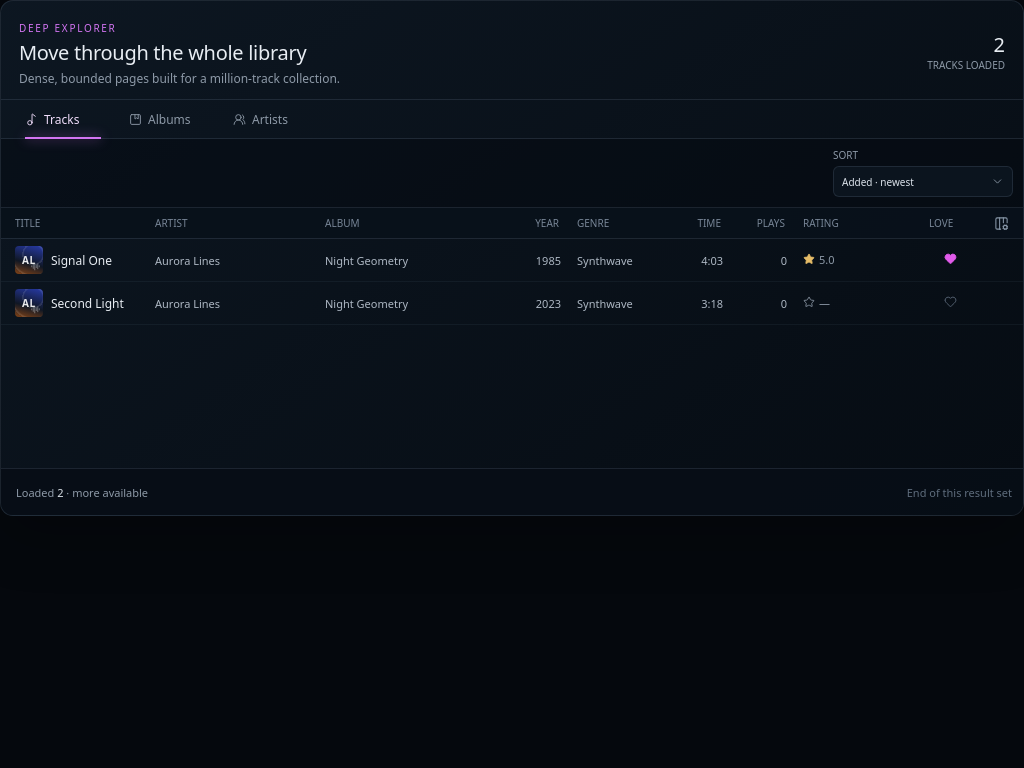
Test: DeepExplorer › song columns › keeps chart ranks out of the title and hides Charts and Publisher by default
Check: the column heading "Publisher" is not shown
Check: the button "Love" is shown, box [921, 208, 979, 238]
Click the button named "Choose columns" at (1001, 223), box [988, 210, 1014, 236]
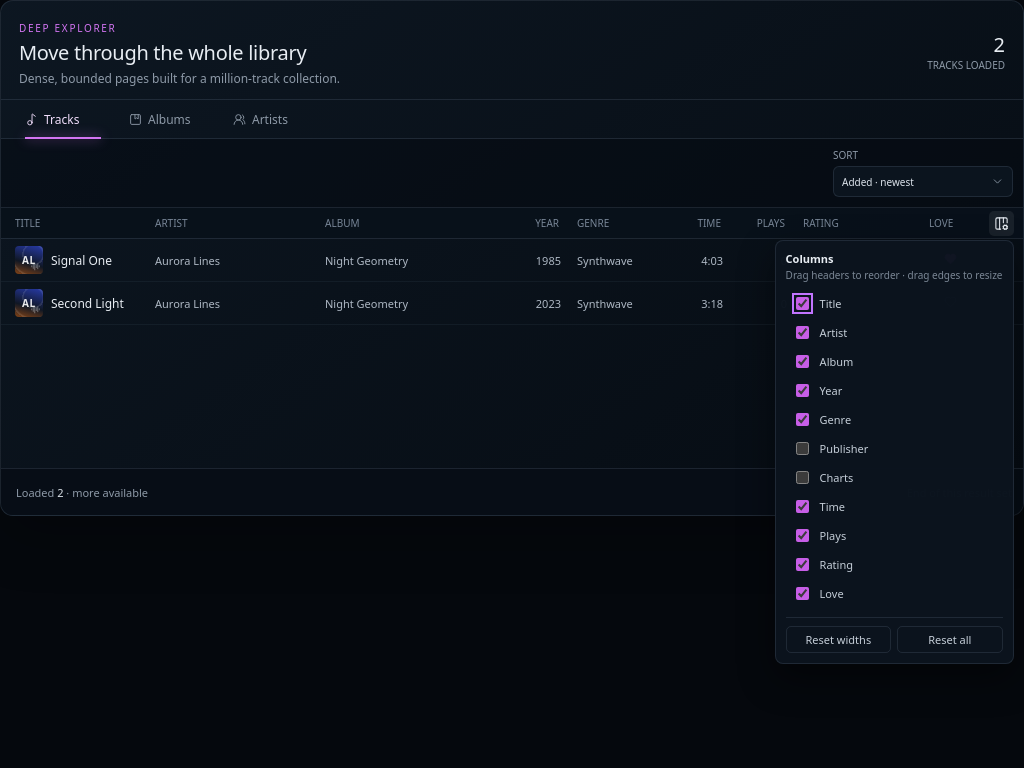
Click the checkbox labelled "Charts" at (802, 477), box [796, 470, 809, 484]
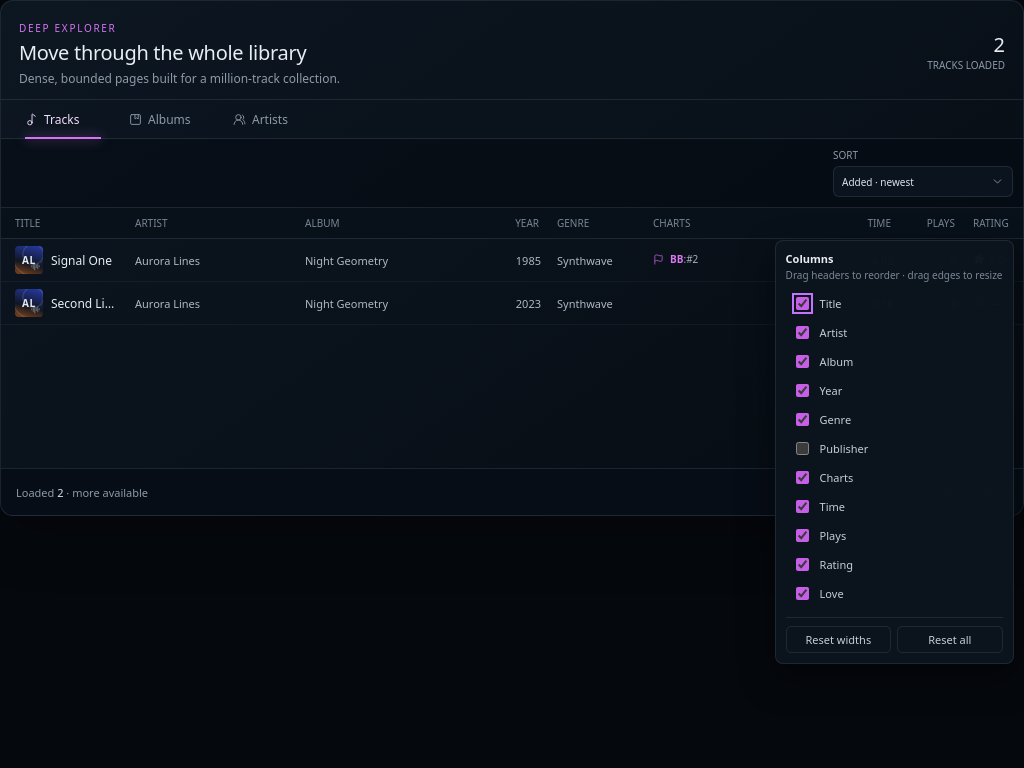
Check: the element named "Chart rankings: Billboard Hot 100 number 2" is shown, box [653, 252, 698, 266]
